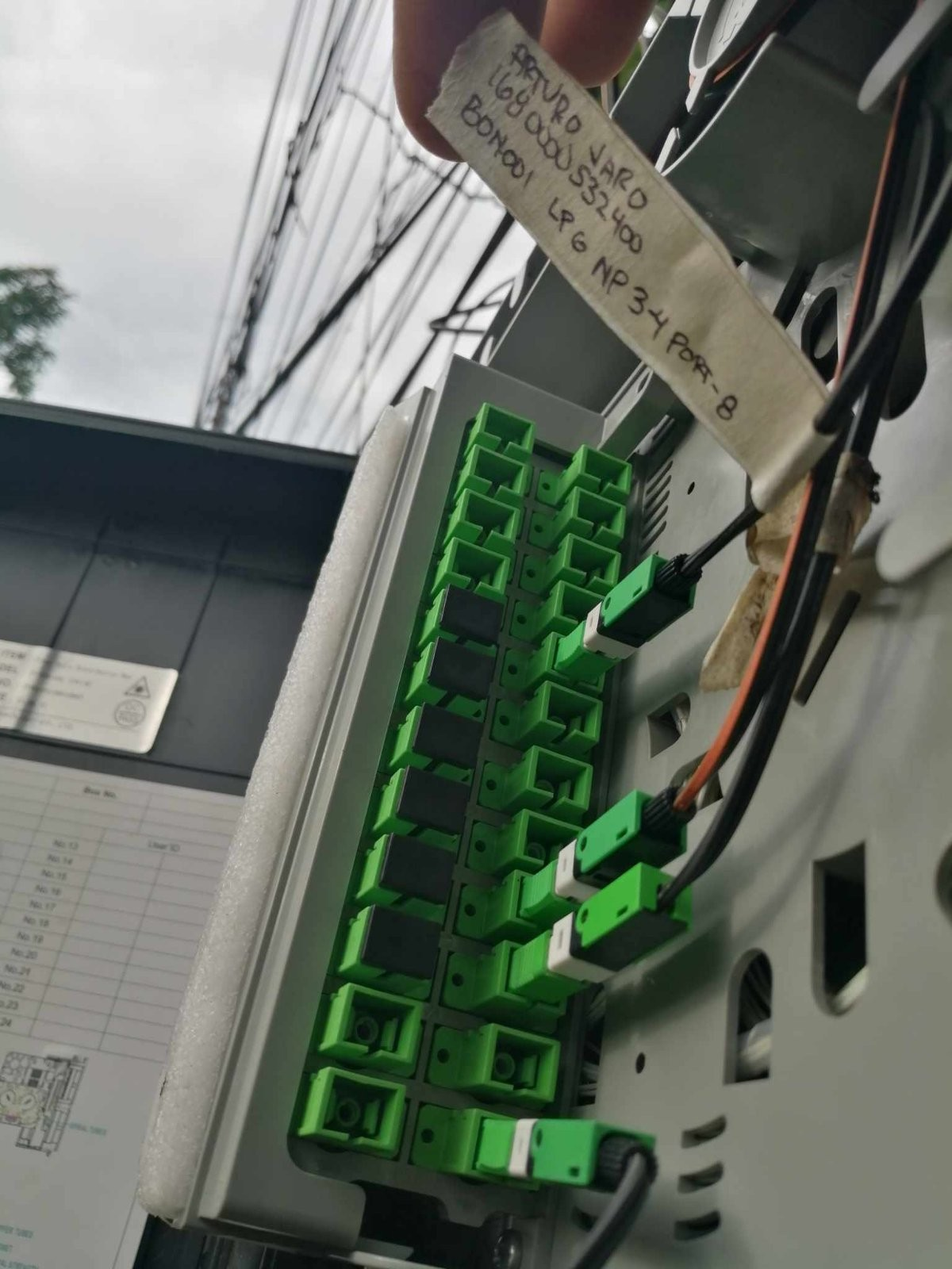no dust cap: (339, 986, 422, 1061), (318, 1070, 401, 1145), (487, 1026, 560, 1101), (519, 808, 591, 877), (528, 746, 594, 809), (538, 681, 604, 743), (554, 581, 617, 641), (565, 534, 621, 586), (471, 446, 526, 495), (481, 403, 536, 452), (452, 542, 507, 590), (464, 491, 519, 539), (580, 443, 630, 493), (575, 486, 625, 536)
occupied: (510, 838, 699, 1015), (523, 767, 692, 940), (551, 529, 712, 692), (470, 1119, 660, 1203)
vacant: (363, 907, 441, 980), (380, 836, 458, 909), (393, 766, 471, 838), (426, 634, 497, 703), (412, 702, 484, 770), (440, 583, 505, 647)
